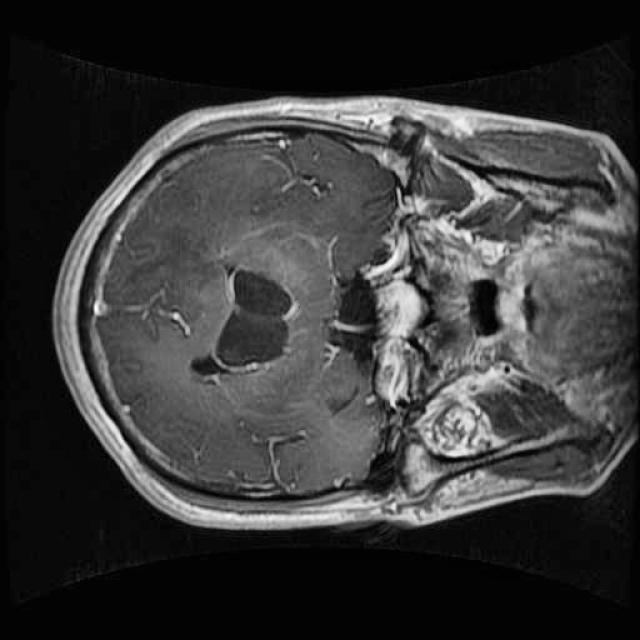Non-Tumor: (194, 239, 309, 385)
